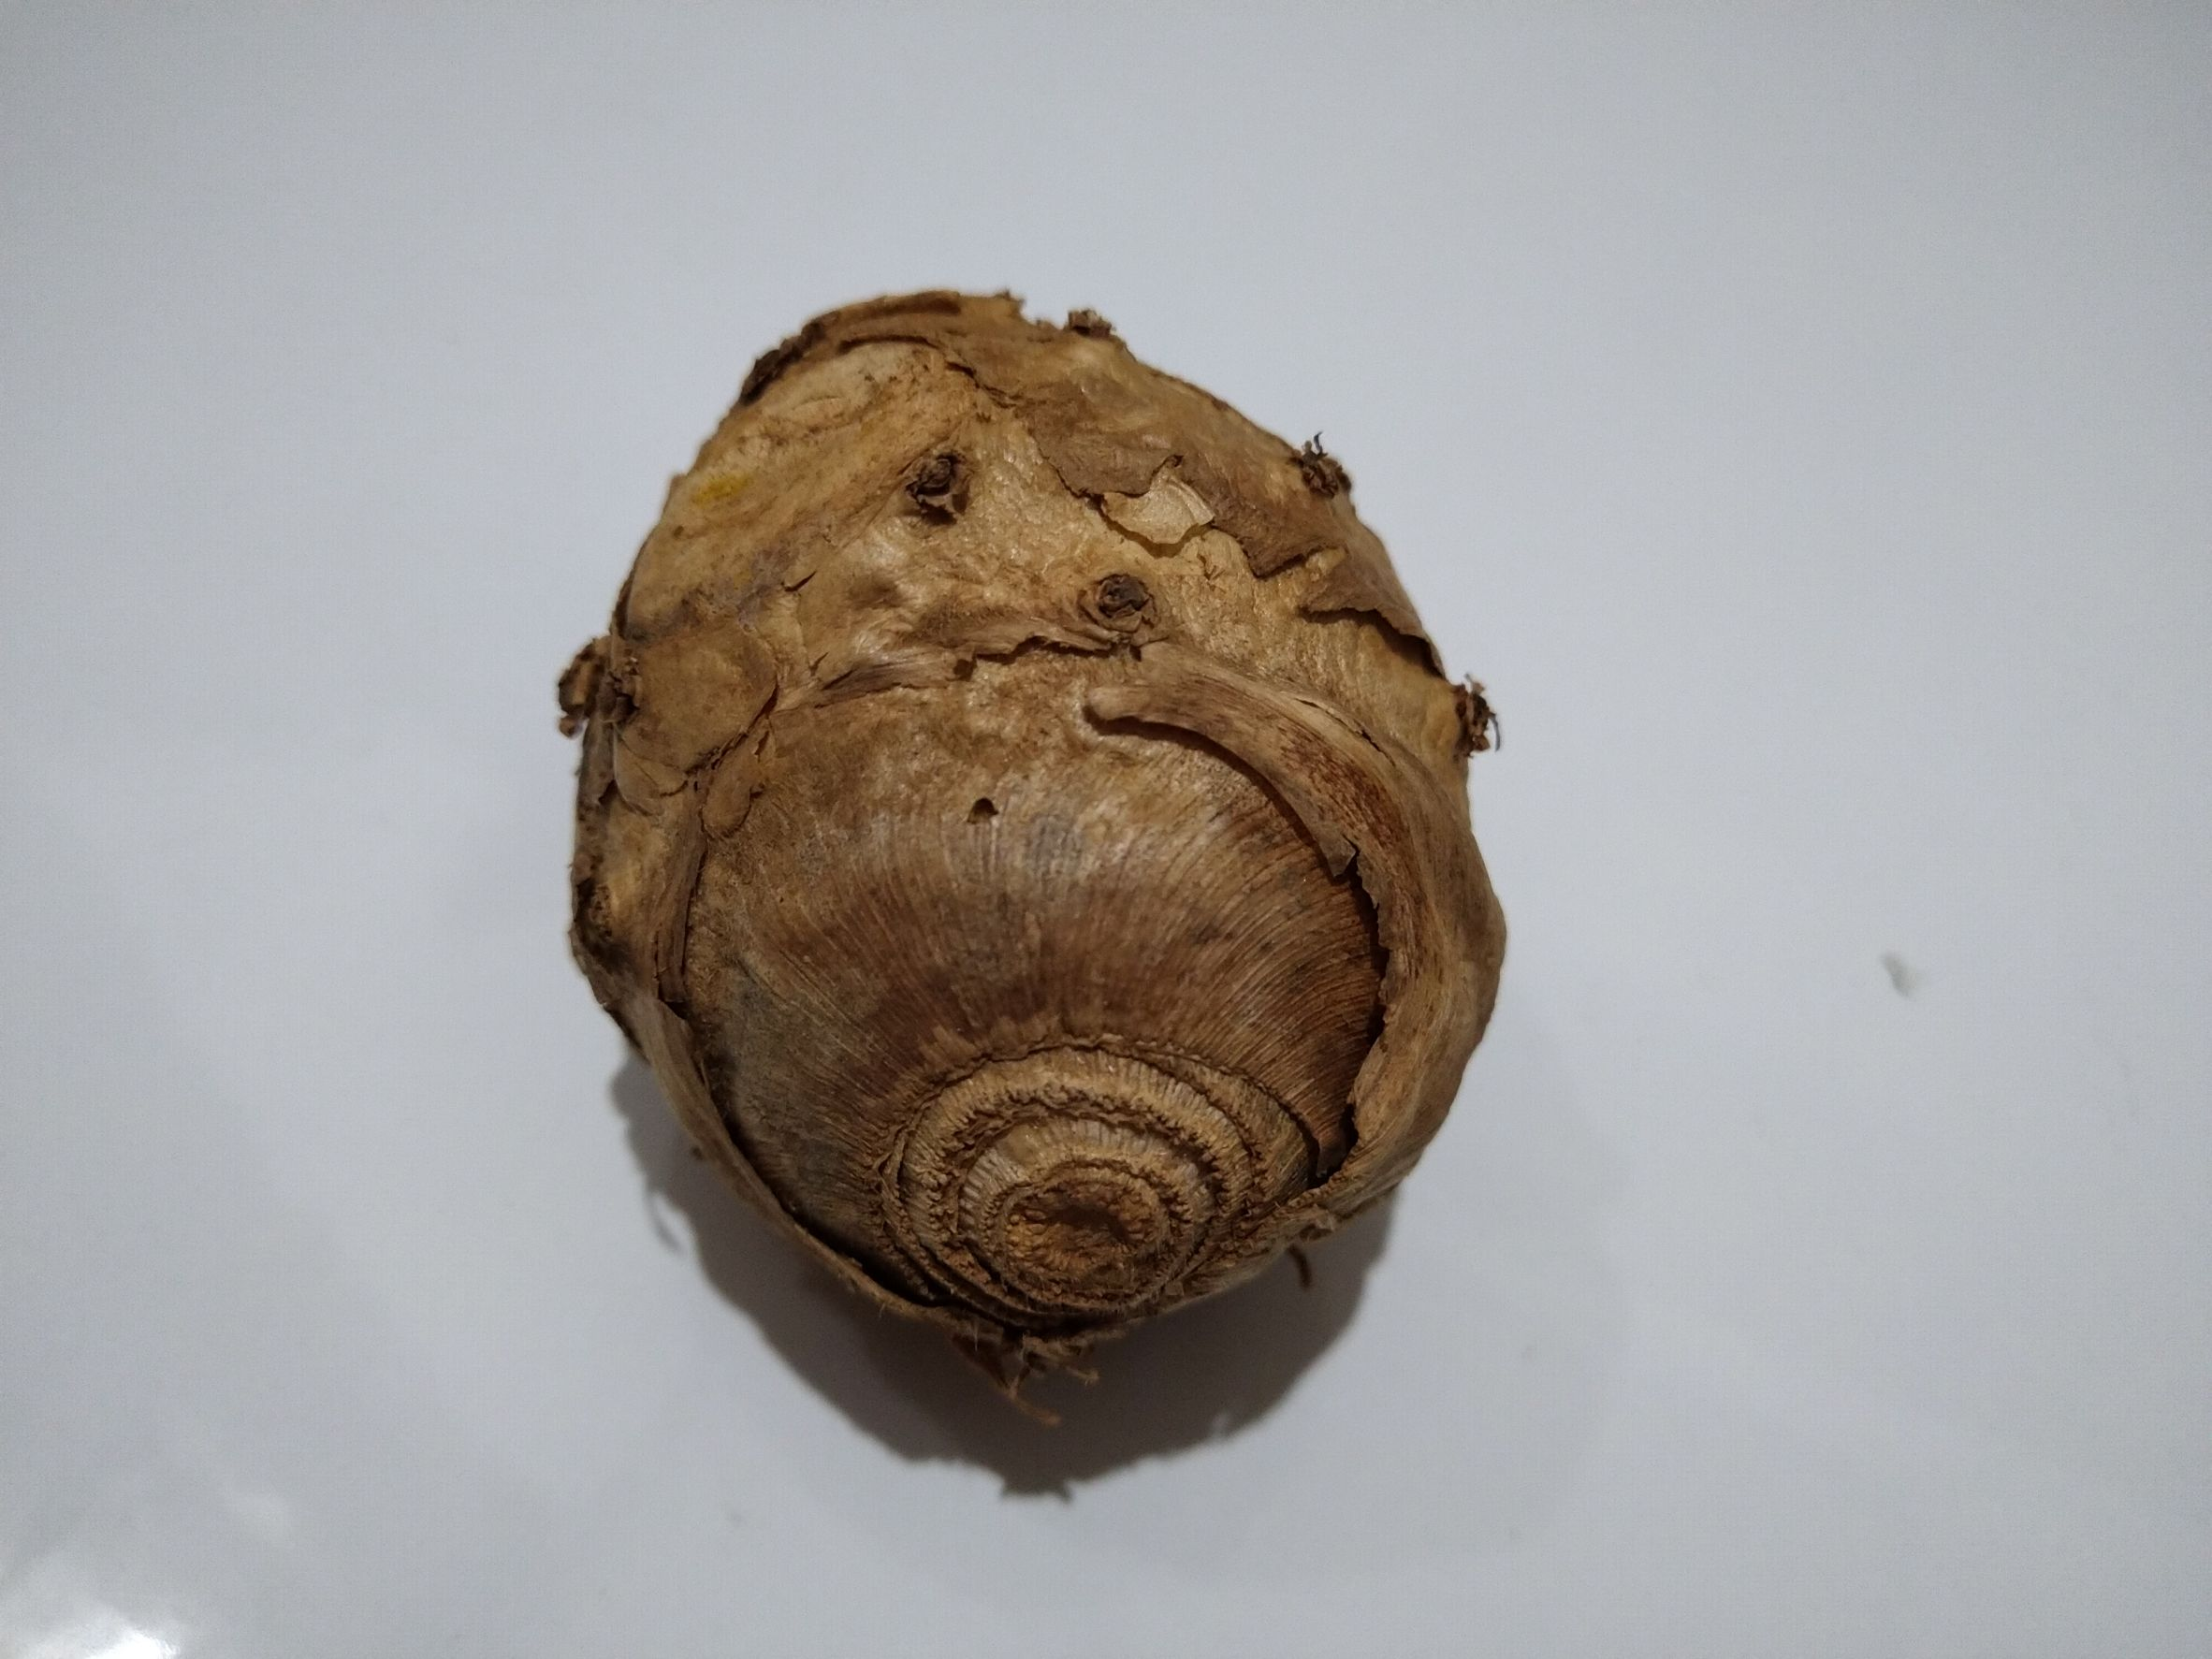Temulawak: (566, 298, 1519, 1392)
